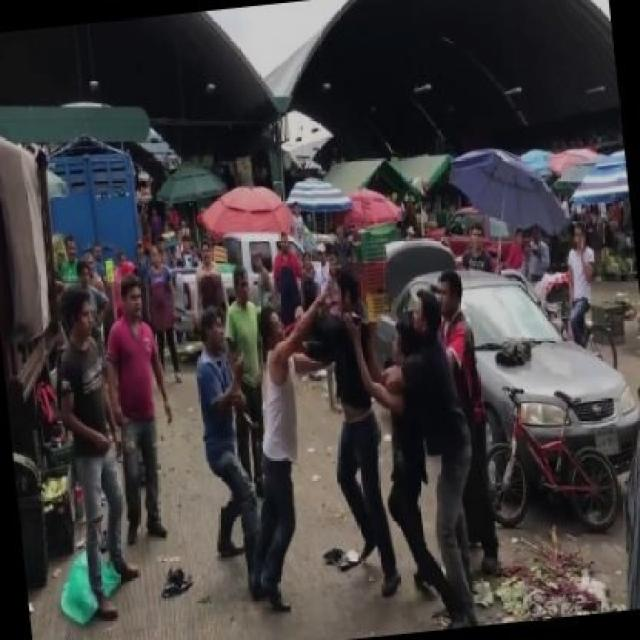fight: (244, 264, 401, 616)
non-fight: (370, 287, 480, 628), (45, 285, 142, 620), (428, 270, 501, 580), (98, 276, 176, 556), (193, 301, 256, 564), (565, 220, 600, 340)
